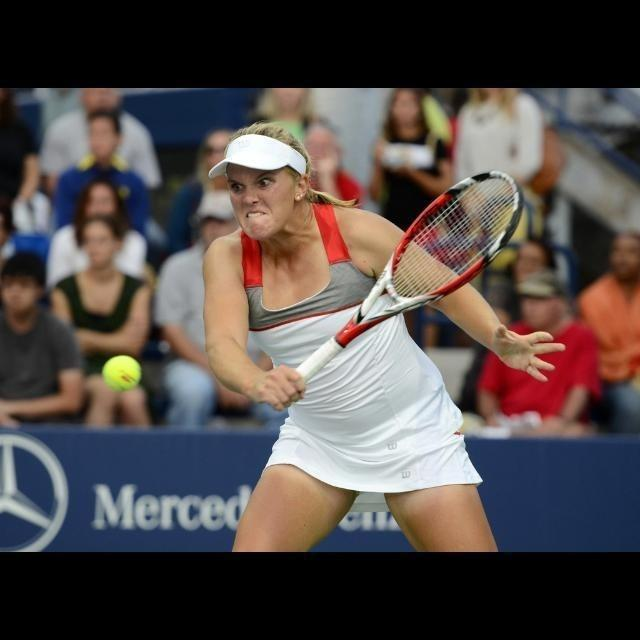ball: (101, 354, 142, 392)
